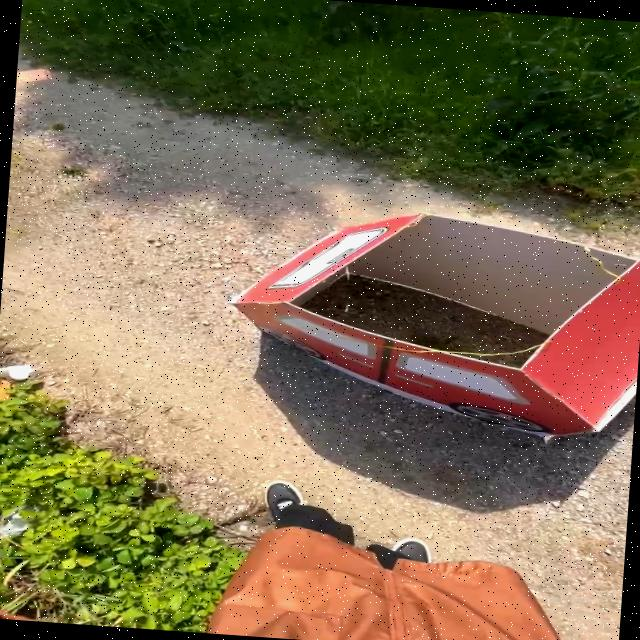red_car: (202, 194, 640, 455)
